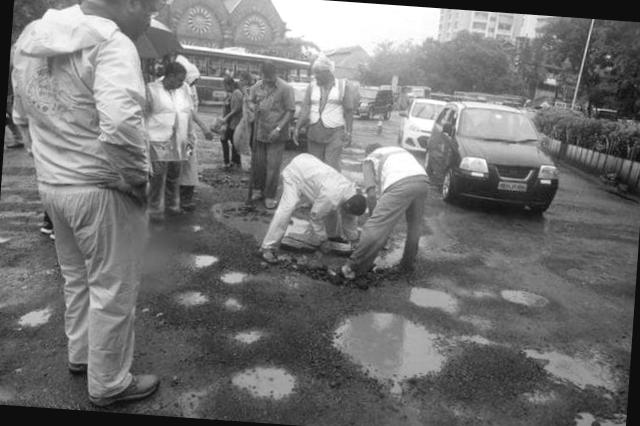Pothole: (326, 306, 464, 410), (519, 333, 629, 426), (224, 359, 310, 408), (492, 275, 560, 324), (232, 317, 274, 348)
